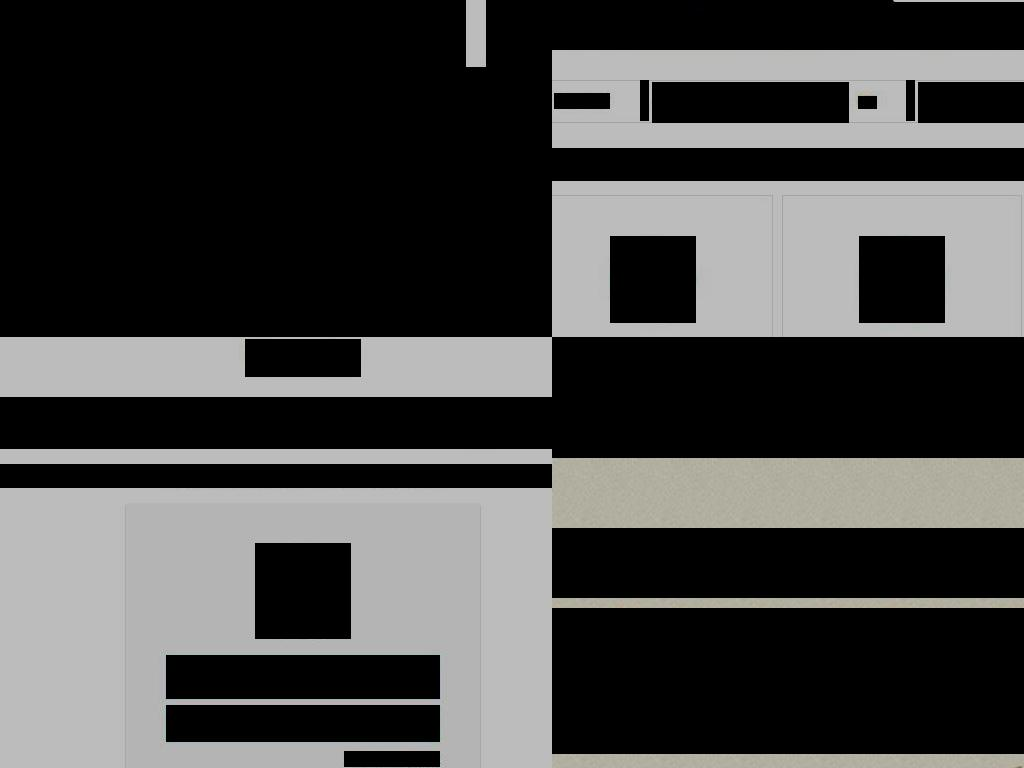button: (179, 14, 433, 46), (652, 82, 849, 123), (883, 337, 1021, 378), (552, 398, 628, 458), (918, 82, 1024, 123), (777, 337, 882, 378), (637, 413, 757, 443), (154, 234, 250, 252), (344, 751, 440, 767), (492, 234, 540, 252)
field: (166, 655, 440, 699), (166, 705, 440, 742)
heading: (552, 528, 1024, 598), (0, 397, 552, 449), (552, 608, 1024, 644), (552, 148, 1024, 181), (0, 185, 552, 213), (0, 464, 552, 488), (0, 127, 455, 153)
iframe: (0, 275, 552, 337)
image: (0, 0, 466, 164), (146, 227, 466, 337), (0, 227, 128, 337), (255, 543, 351, 639), (610, 236, 696, 323), (859, 236, 945, 323), (245, 339, 361, 377), (647, 420, 666, 436), (858, 96, 877, 109), (552, 420, 560, 436)
text: (552, 644, 1024, 754), (564, 398, 607, 458), (675, 419, 747, 437), (554, 93, 610, 109), (640, 80, 649, 121), (906, 80, 915, 121)
